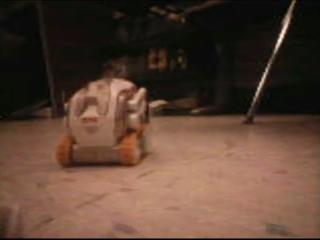cozmo: (54, 69, 162, 168)
